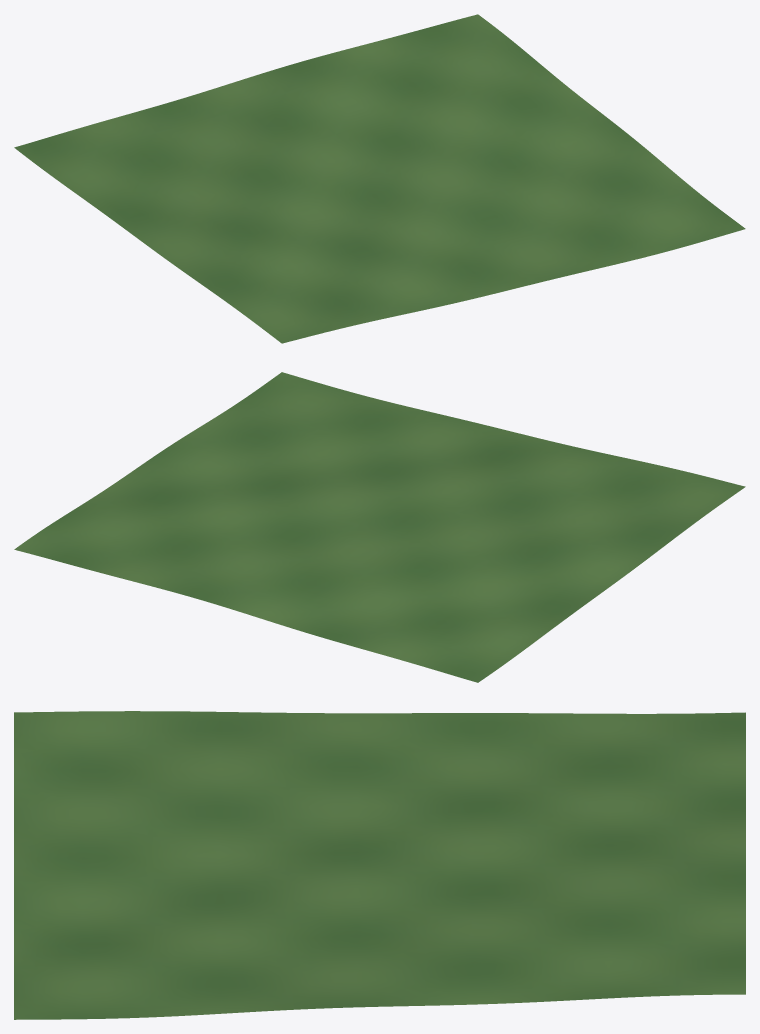
The model's file is chunk_1_3.glb.
The picture shows the model from 3 angles, top to bottom: view 1: azimuth 30°, elevation 25°; view 2: azimuth 150°, elevation 25°; view 3: azimuth 270°, elevation 25°; orthographic projection. The views are drawn at different scales.
Bounding box in the file's own units: 512 × 23.57 × 512.
